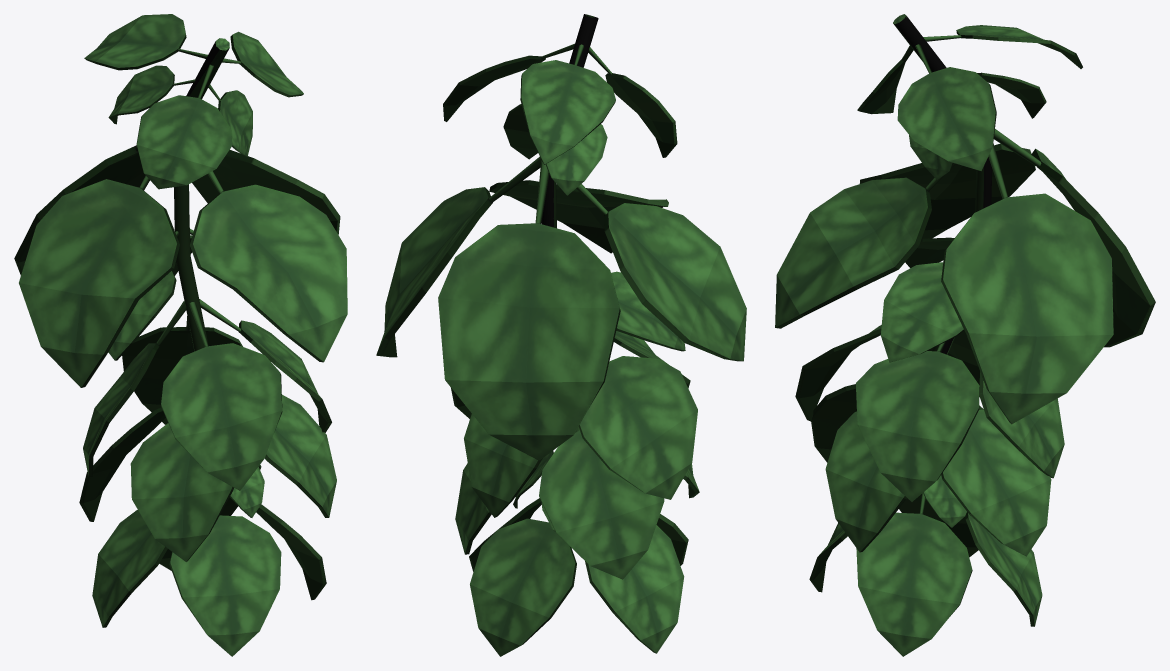
Rendered from HangPlant01.glb.
3 views of the same model, side by side, from view 1: azimuth 30°, elevation 25°; view 2: azimuth 150°, elevation 25°; view 3: azimuth 270°, elevation 25° (orthographic). The views are drawn at different scales.
Parts seen in each view (by area): view 1: HangPlantLowPoly; view 2: HangPlantLowPoly; view 3: HangPlantLowPoly.
Boxes of the visible parts, x1,y1,x2,y2 form: HangPlantLowPoly: [14, 14, 347, 656]; HangPlantLowPoly: [376, 14, 746, 656]; HangPlantLowPoly: [775, 14, 1155, 656].
Bounding box in the file's own units: 0.375 × 0.6662 × 0.3831.
Materials: 1 (1 with a texture image).
